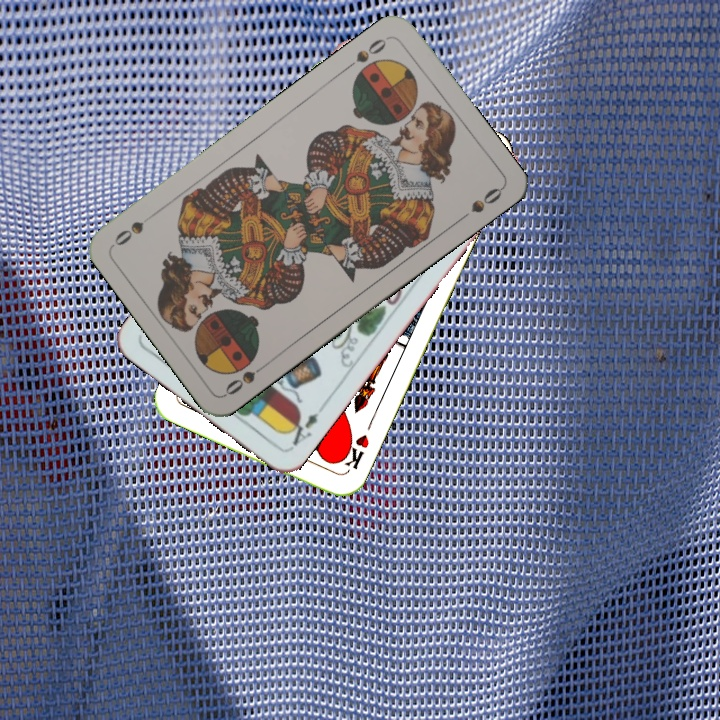EA: (282, 400, 328, 451)
HK: (335, 430, 372, 475)
SO: (221, 357, 272, 398), (341, 32, 392, 73)
